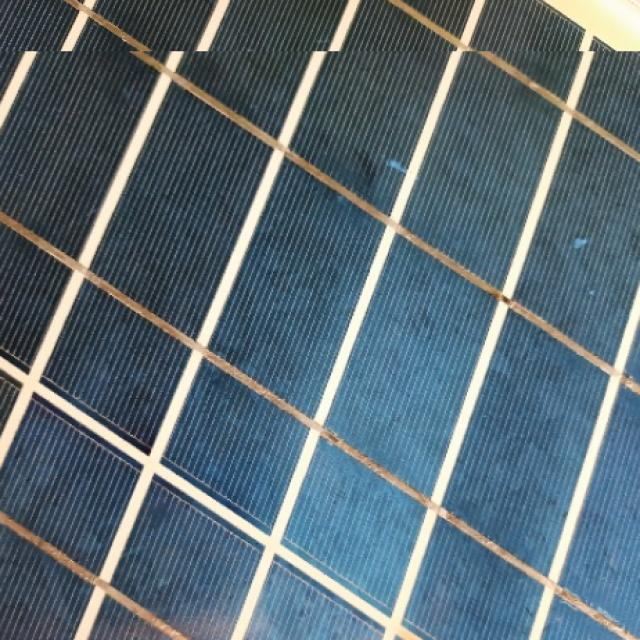Clean: (0, 51, 640, 640)
